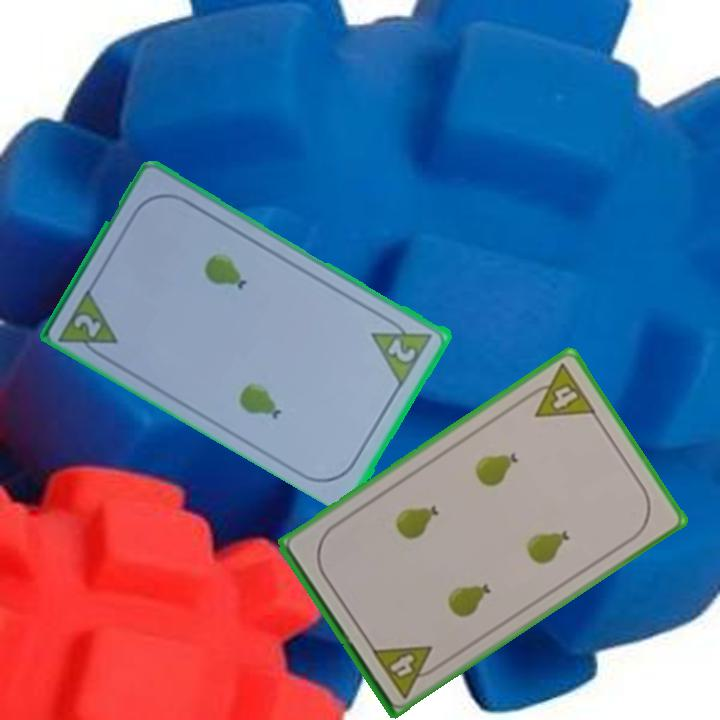2p: (56, 283, 122, 364), (384, 334, 420, 365)
4p: (520, 359, 599, 421), (368, 641, 445, 701)
